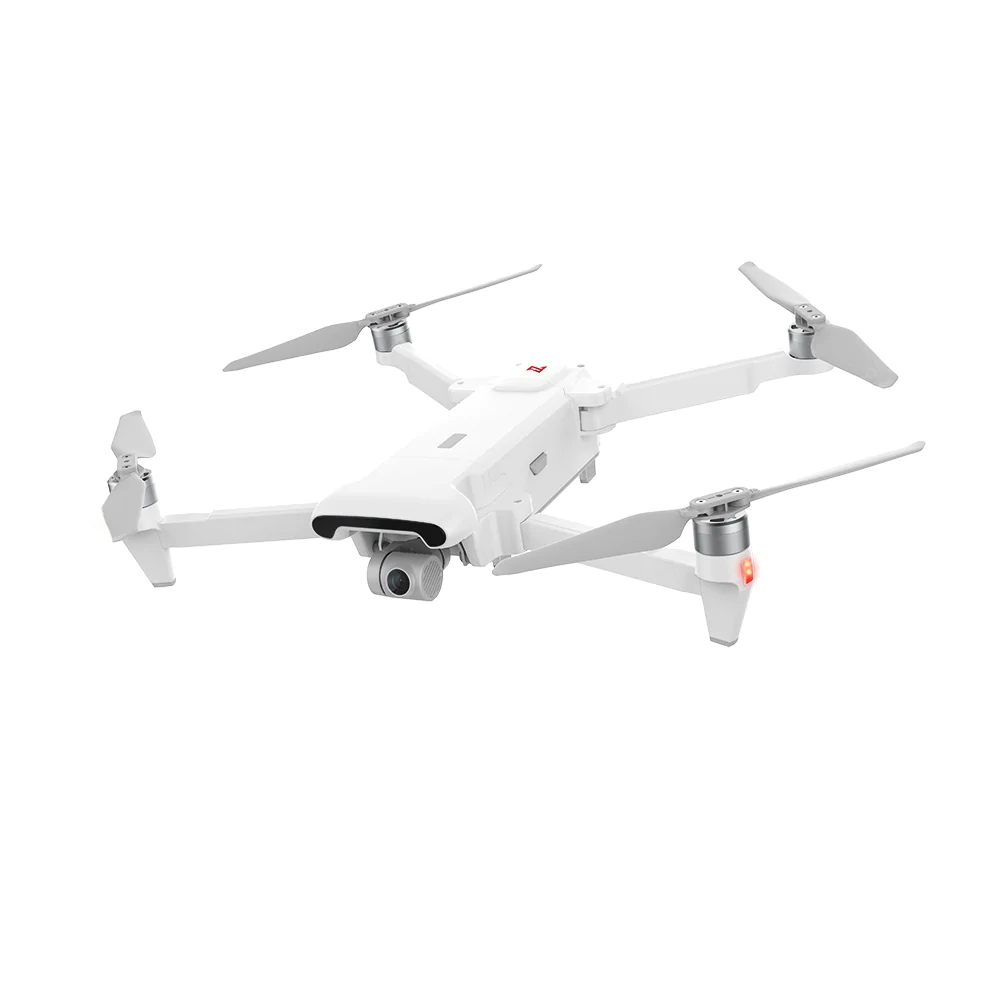drone: (86, 256, 939, 656)
